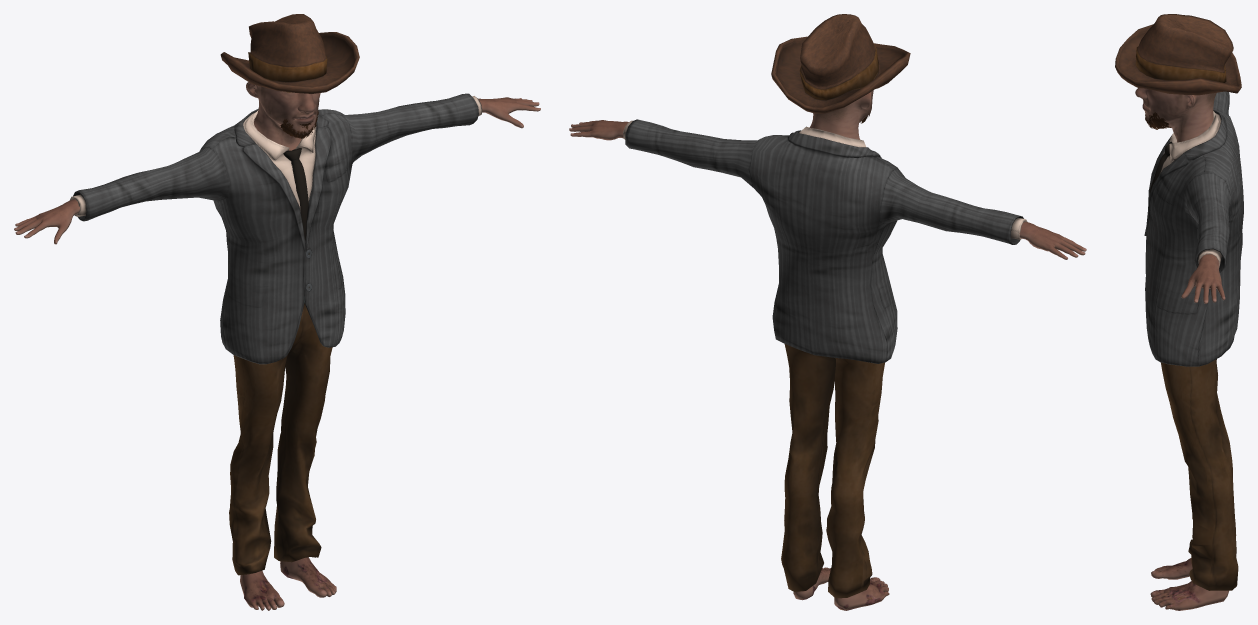
Rendered from Collector.obj.
The picture shows the model from 3 angles, left to right: view 1: azimuth 30°, elevation 25°; view 2: azimuth 150°, elevation 25°; view 3: azimuth 270°, elevation 25°; orthographic projection.
Visible parts, largest first — view 1: Tops, Bottoms, Body, Hats; view 2: Tops, Bottoms, Hats, Body; view 3: Tops, Bottoms, Hats, Body, Beards.
Part boxes in pixels (left/top/right/bottom): Tops: left=69, top=93, right=482, bottom=364; Bottoms: left=229, top=296, right=332, bottom=575; Body: left=14, top=82, right=540, bottom=610; Hats: left=220, top=14, right=359, bottom=93; Tops: left=623, top=119, right=1027, bottom=363; Bottoms: left=781, top=344, right=884, bottom=598; Hats: left=771, top=14, right=910, bottom=113; Body: left=569, top=90, right=1086, bottom=610; Tops: left=1144, top=91, right=1243, bottom=366; Bottoms: left=1161, top=359, right=1238, bottom=590; Hats: left=1115, top=14, right=1241, bottom=95; Body: left=1135, top=87, right=1228, bottom=610; Beards: left=1145, top=112, right=1171, bottom=129.
Bounding box in the file's own units: 186 × 197 × 40.08.
Materials: 1 (1 with a texture image).
